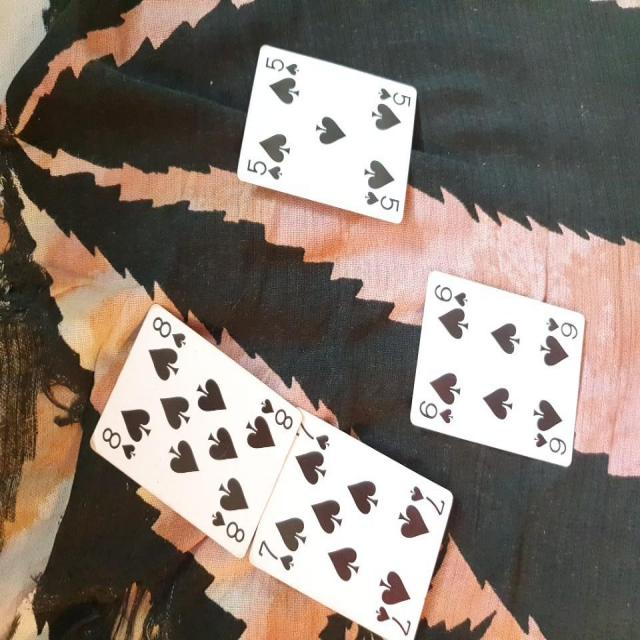5 Spades: (237, 38, 426, 228)
6 Spades: (407, 270, 592, 476)
7 Spades: (251, 401, 455, 640)
8 Spades: (69, 290, 307, 569)
